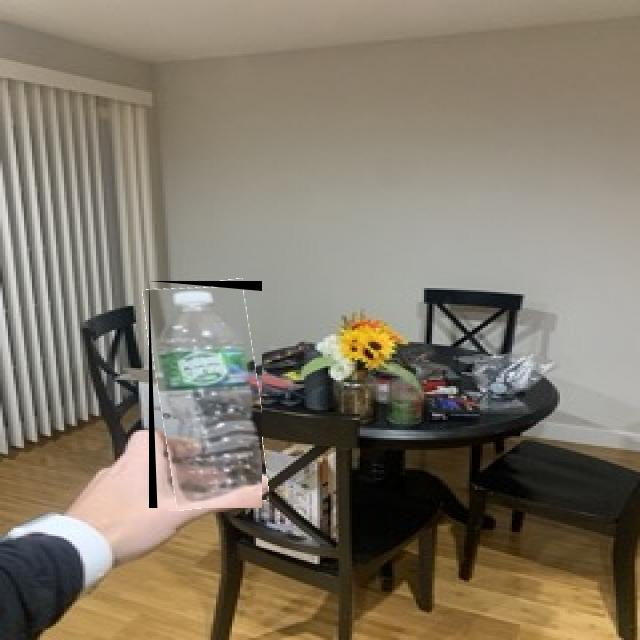water_bottle: (149, 281, 262, 508)
